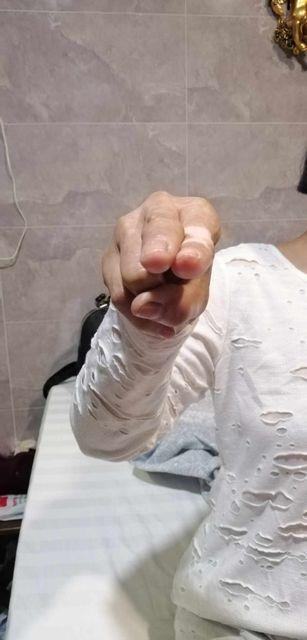n: (101, 189, 221, 339)
